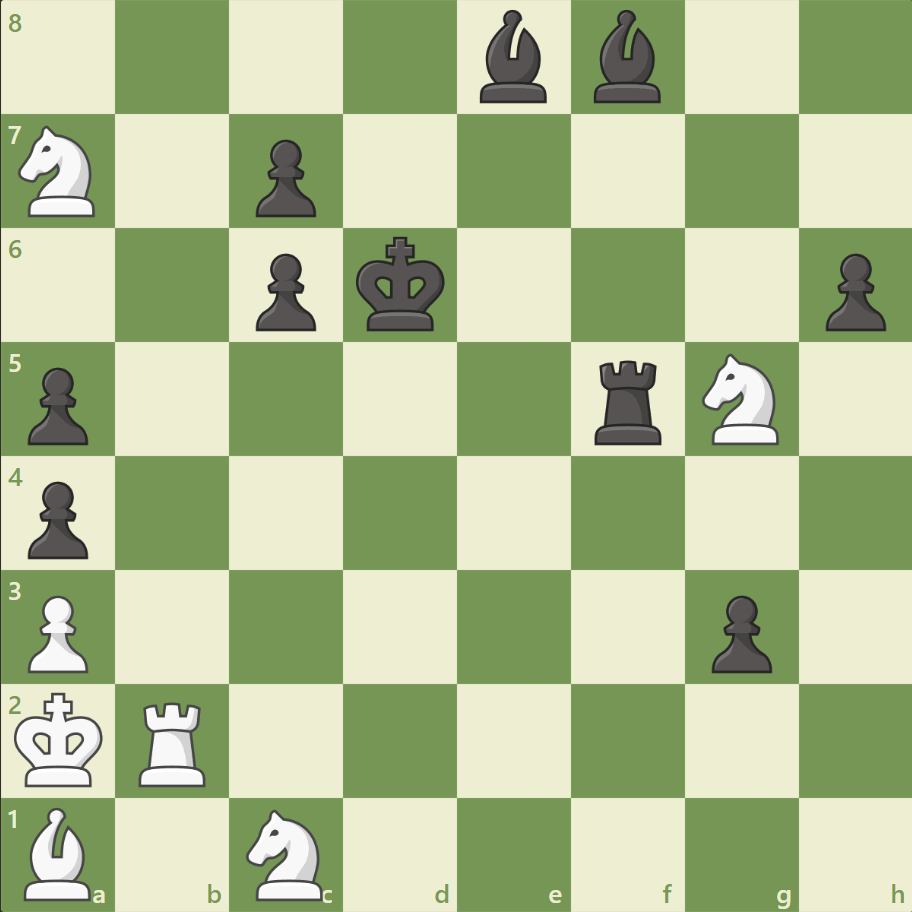B: (17, 801, 101, 904)
K: (11, 685, 111, 793)
N: (11, 121, 108, 223), (692, 348, 789, 450), (238, 802, 335, 904)
P: (20, 586, 95, 677)
R: (133, 693, 215, 790)
b: (471, 6, 555, 109), (585, 6, 669, 109)
k: (351, 231, 451, 339)
p: (247, 132, 322, 223), (247, 246, 322, 337), (20, 359, 95, 450), (20, 473, 95, 564), (701, 586, 776, 677), (815, 246, 889, 337)
r: (587, 352, 670, 449)
